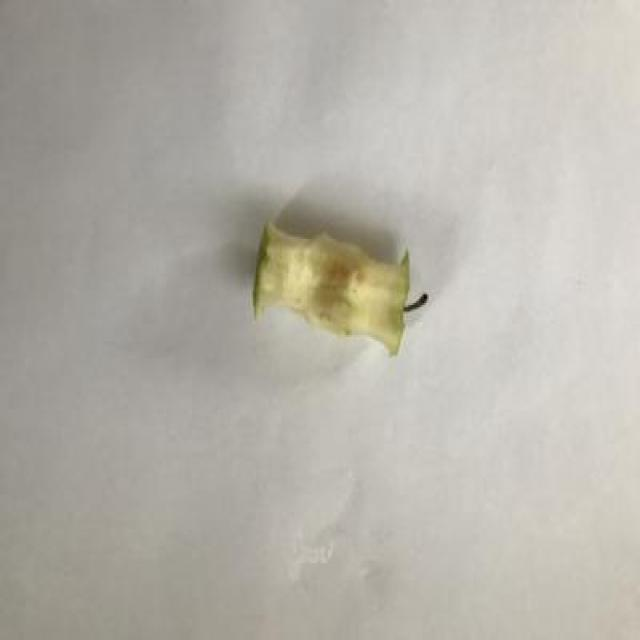compost: (248, 212, 432, 364)
